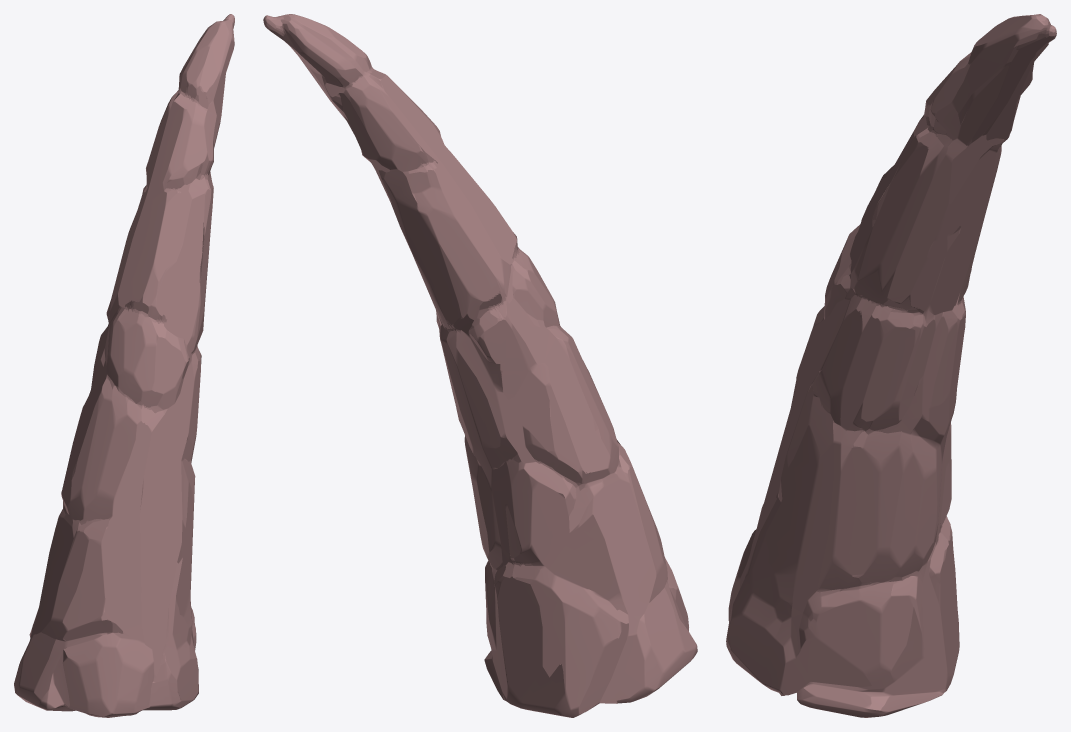
Rendered from sea.fbx_Cone__1_LODs.fbx.
3 views of the same model, side by side, from view 1: azimuth 30°, elevation 25°; view 2: azimuth 150°, elevation 25°; view 3: azimuth 270°, elevation 25° (orthographic). The views are drawn at different scales.
Visible parts, largest first — view 1: Cone (1)_LOD0; view 2: Cone (1)_LOD0; view 3: Cone (1)_LOD0.
Boxes of the visible parts, box(x1,y1,x2,y2) form: Cone (1)_LOD0: box(14, 14, 234, 717); Cone (1)_LOD0: box(263, 14, 697, 717); Cone (1)_LOD0: box(726, 14, 1056, 717).
Size of what is drawn, in the model's own units: 3783 by 7470 by 2874.
